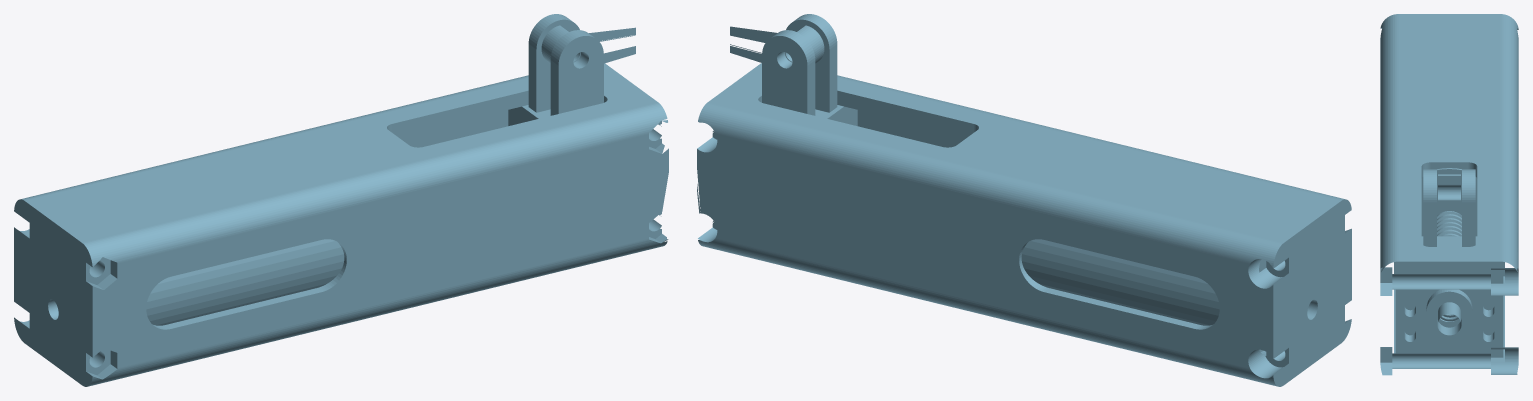
Rendered from 02-drive.glb.
The picture shows the model from 3 angles, left to right: view 1: azimuth 30°, elevation 25°; view 2: azimuth 150°, elevation 25°; view 3: azimuth 270°, elevation 25°; orthographic projection. The views are drawn at different scales.
Parts seen in each view (by area): view 1: 02-drive; view 2: 02-drive; view 3: 02-drive.
Boxes of the visible parts, left/top/right/bottom form: 02-drive: left=14, top=14, right=668, bottom=386; 02-drive: left=697, top=14, right=1351, bottom=386; 02-drive: left=1380, top=14, right=1518, bottom=375.
Bounding box in the file's own units: 0.127 × 0.045 × 0.03.
